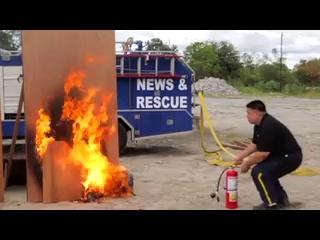Fire: (33, 55, 134, 202)
